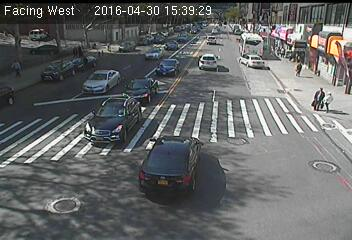neg: (226, 113, 268, 169), (319, 144, 351, 208), (115, 128, 139, 161), (177, 3, 195, 28), (259, 47, 271, 64), (20, 10, 32, 27), (103, 3, 114, 18), (31, 44, 40, 56), (136, 29, 143, 37), (148, 30, 153, 37)
